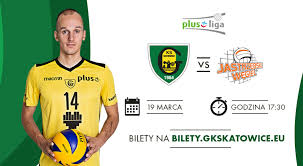ball: (50, 129, 91, 166)
